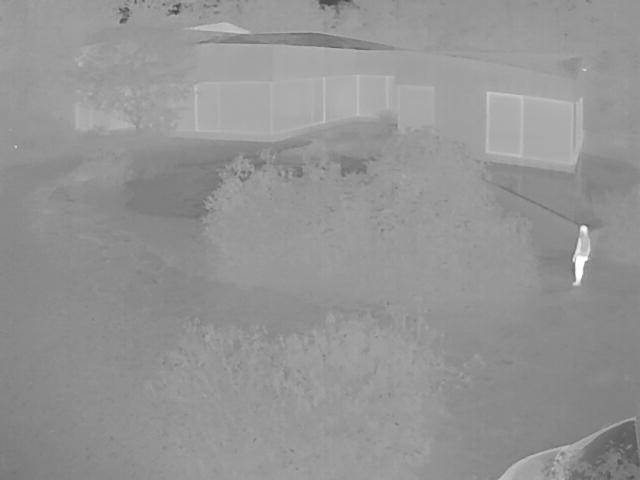person: (573, 225, 593, 287)
